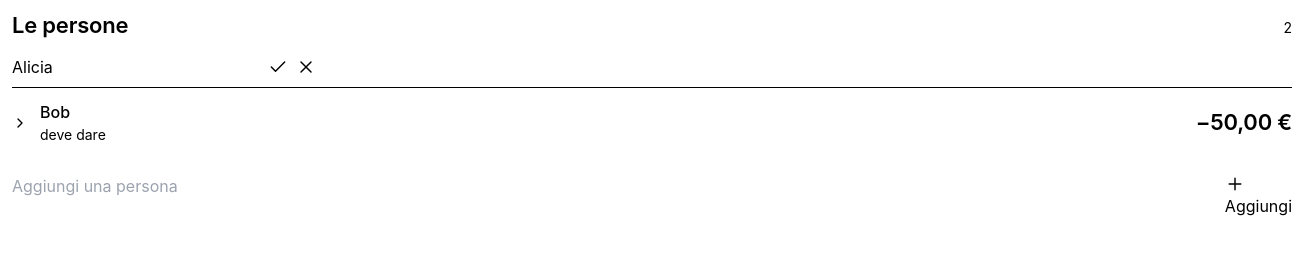
Scenario: ParticipantPanel › carries a rename into the expenses, not just the roster
The width and height of the screenshot is (1304, 262).
Click the button named "Salva nome": coordinates (278, 67) top-left (268, 57), bottom-right (288, 77)
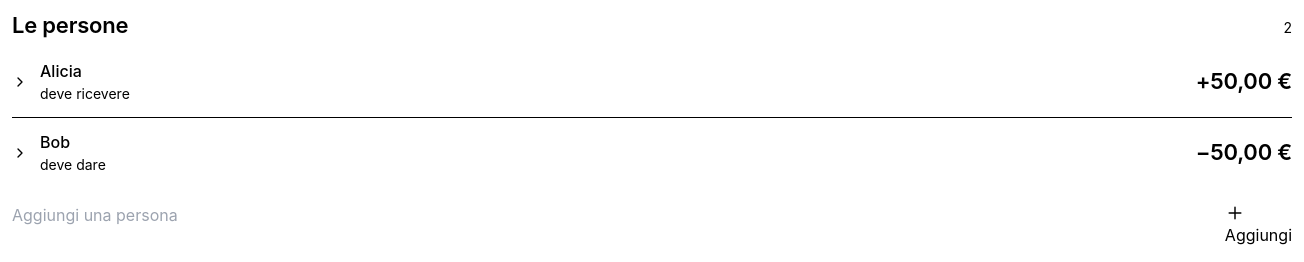
Expected: the text "Alicia" is shown, top-left (40, 61), bottom-right (82, 81)
